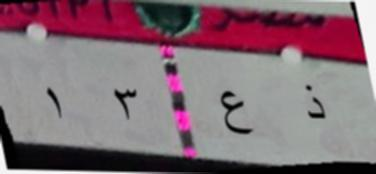1: (42, 81, 69, 125)
3: (111, 84, 142, 124)
ain: (216, 86, 258, 146)
zaal: (298, 80, 328, 126)
